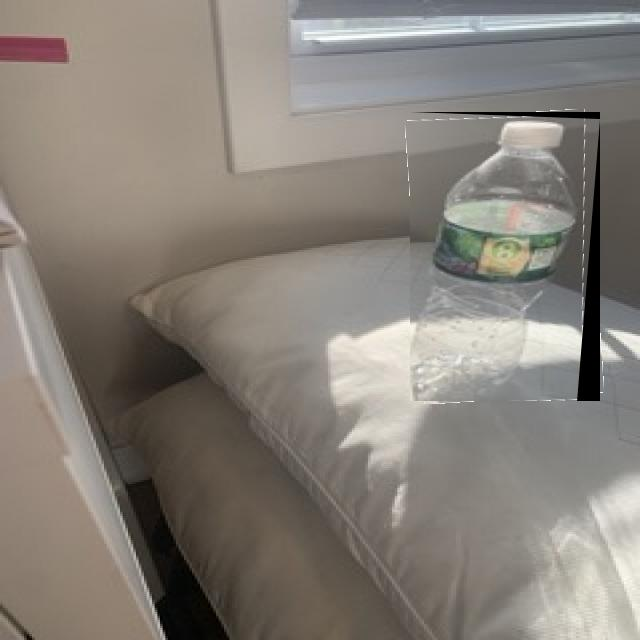water_bottle: (410, 112, 600, 401)
